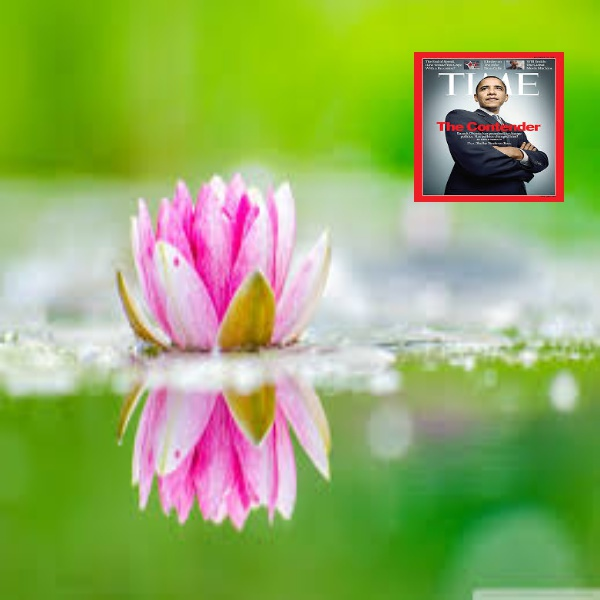time_cover: (405, 40, 568, 204)
